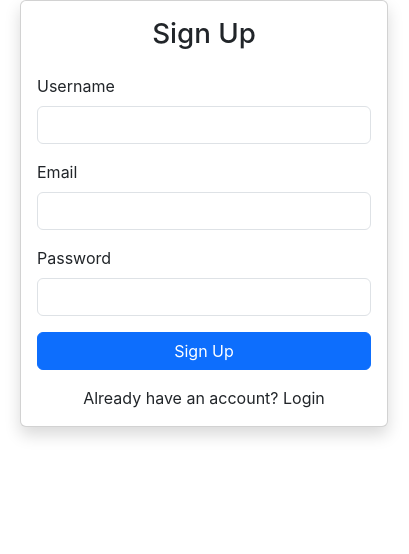
Test: Signup.vue › successfully signs up and redirects to login
This screenshot has width=409, height=554.
Type "newuser" into the field with test id "username-input" at [204, 125], box [37,106,371,144]
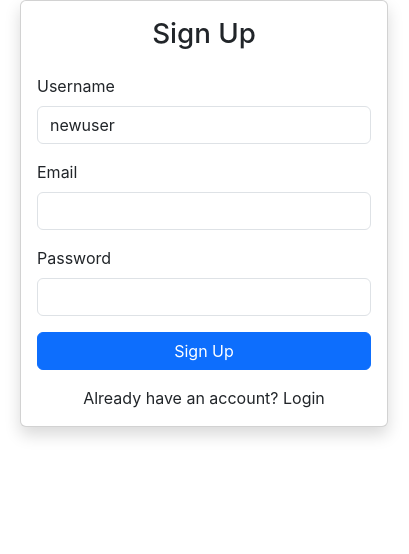
Type "newuser@example.com" into the field with test id "email-input" at [204, 211], box [37,192,371,230]
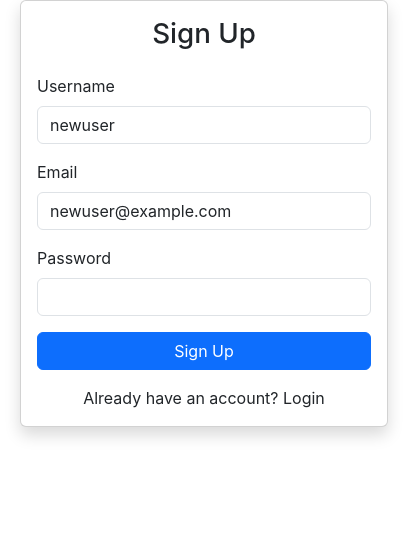
Type "password123" into the password field with test id "password-input" at [204, 297], box [37,278,371,316]
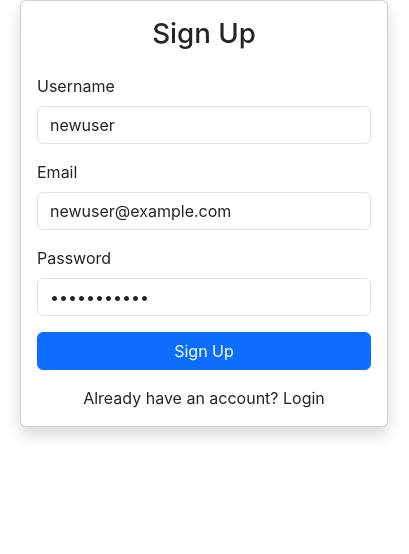
Submit the form, box [37,74,371,370]
Wait 2000 ms
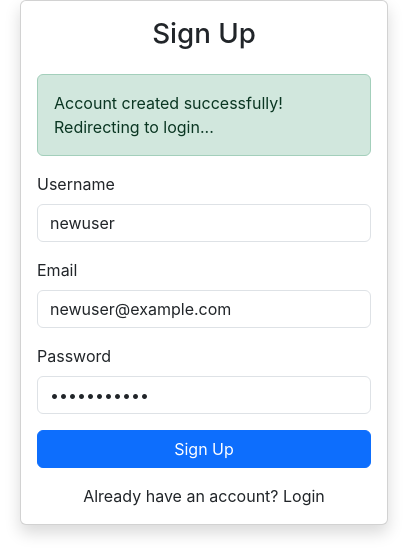
Check: the text "Account created successfully" is shown, box [54,93,283,137]
